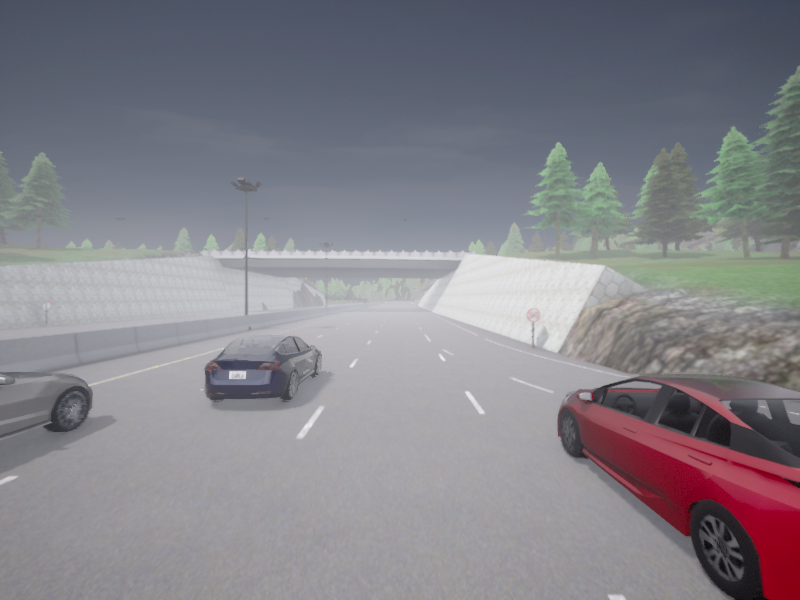vehicle: (557, 375, 799, 599), (204, 335, 320, 401), (0, 372, 92, 440)
